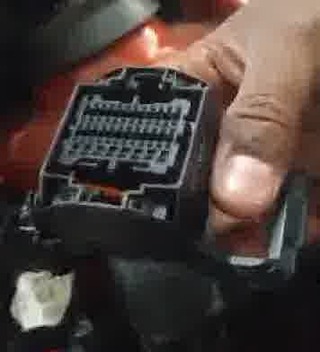connector: (37, 66, 219, 254)
